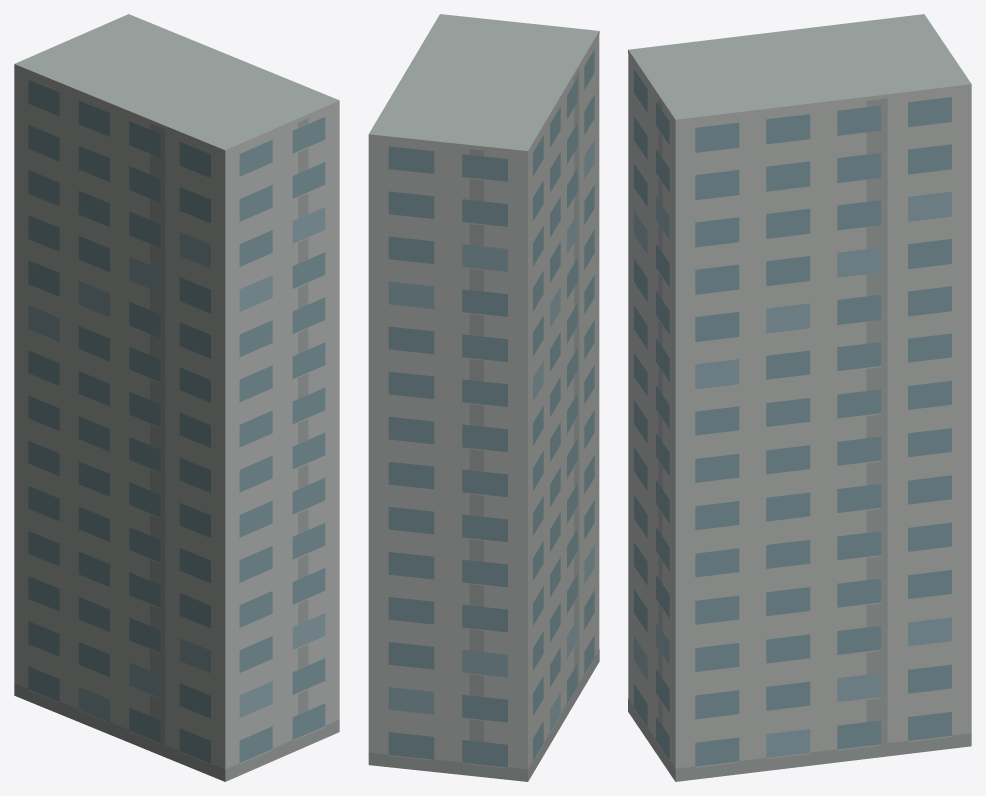
The model's file is residential-0abbeb27-a7b6-443c-8588-da3d90b1b3fe.glb.
The picture shows the model from 3 angles, left to right: view 1: azimuth 30°, elevation 25°; view 2: azimuth 150°, elevation 25°; view 3: azimuth 270°, elevation 25°; orthographic projection. The views are drawn at different scales.
Parts seen in each view (by area): view 1: residential-0abbeb27-a7b6-443c-8588-da3d90b1b3fe.tmp; view 2: residential-0abbeb27-a7b6-443c-8588-da3d90b1b3fe.tmp; view 3: residential-0abbeb27-a7b6-443c-8588-da3d90b1b3fe.tmp.
Boxes of the visible parts, x1,y1,x2,y2 form: residential-0abbeb27-a7b6-443c-8588-da3d90b1b3fe.tmp: (14,14,339,781); residential-0abbeb27-a7b6-443c-8588-da3d90b1b3fe.tmp: (368,14,599,781); residential-0abbeb27-a7b6-443c-8588-da3d90b1b3fe.tmp: (628,14,971,781).
Size of the model in its own units: 13.37 by 39 by 18.35.
